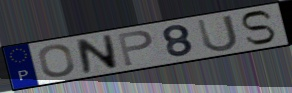8: (161, 24, 195, 58)
N: (74, 33, 120, 75)
O: (37, 43, 77, 79)
P: (115, 29, 155, 68)
S: (238, 9, 278, 46)
U: (195, 13, 241, 54)
